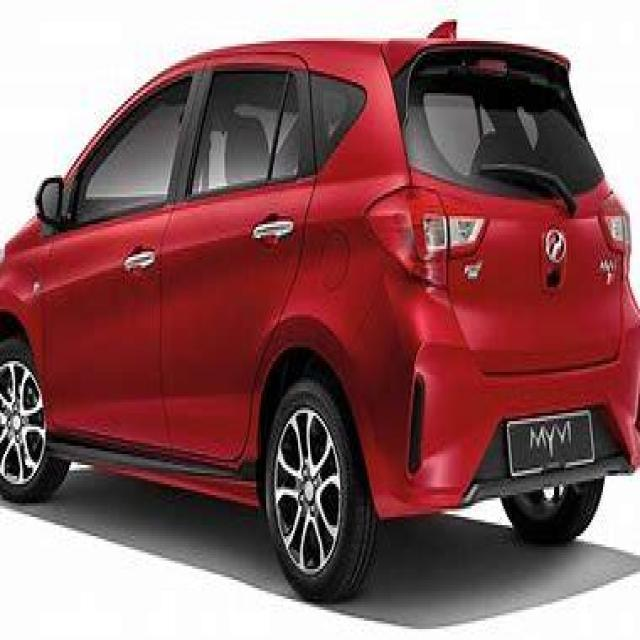PeroduaAxia: (1, 19, 638, 604)
